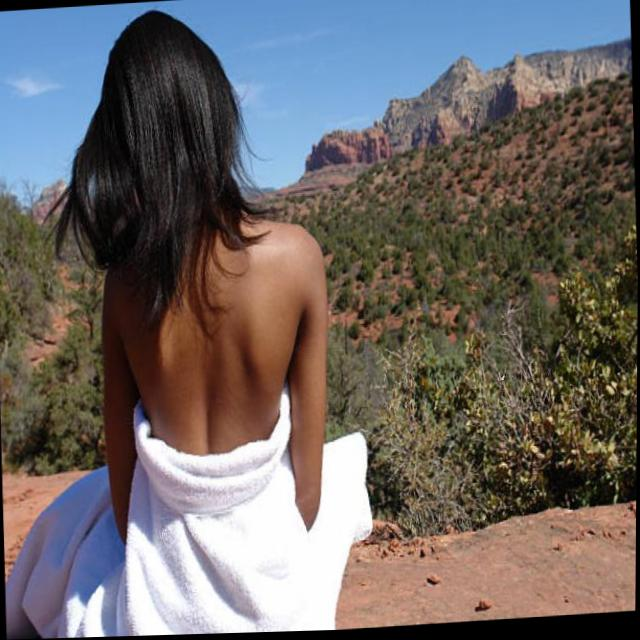no helmet: (86, 8, 248, 251)
